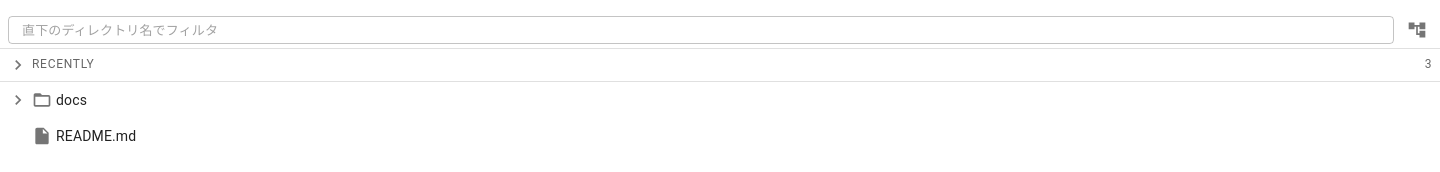
Test case: Sidebar › Recently section (#228) › shows both numbers while a filter hides part of the history
Expected: the text "3" is shown, [1425,57,1432,71]
Type "docs" into the field with test id "sidebar-filter".
click(701, 30); type("docs")  # box [8,21,1394,39]
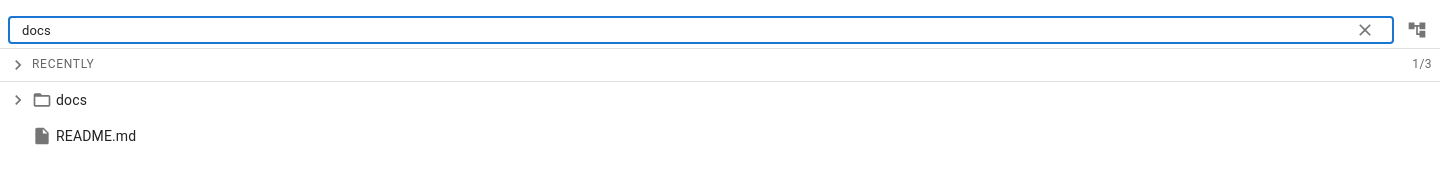
Expected: the text with test id "sidebar-recently-opened-count" reads "1/3", [1412,57,1432,71]
